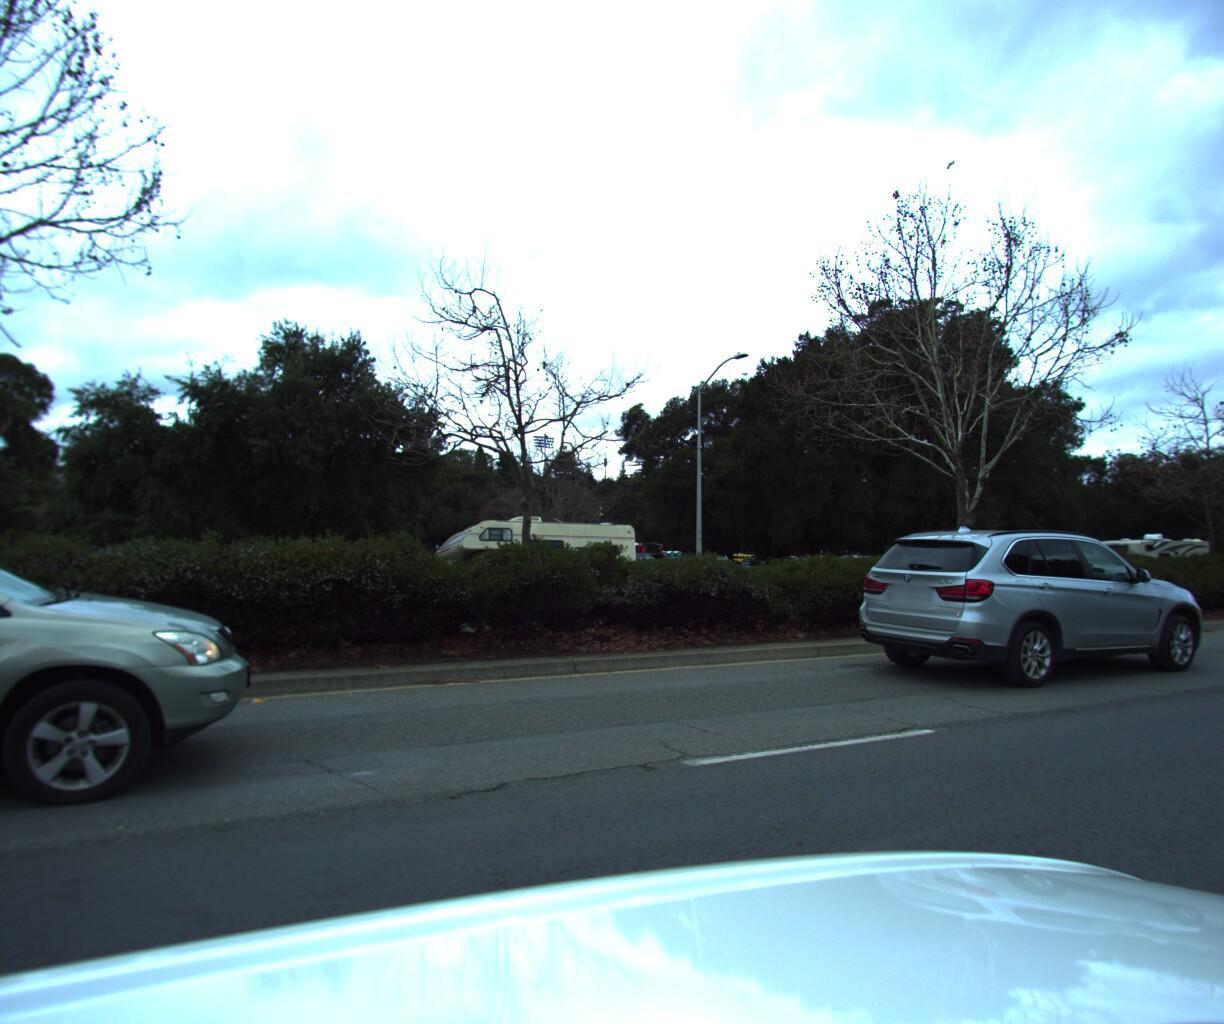car: (0, 439, 263, 966), (839, 520, 1221, 691)
other_vehicle: (432, 511, 636, 587), (1074, 523, 1214, 581)
